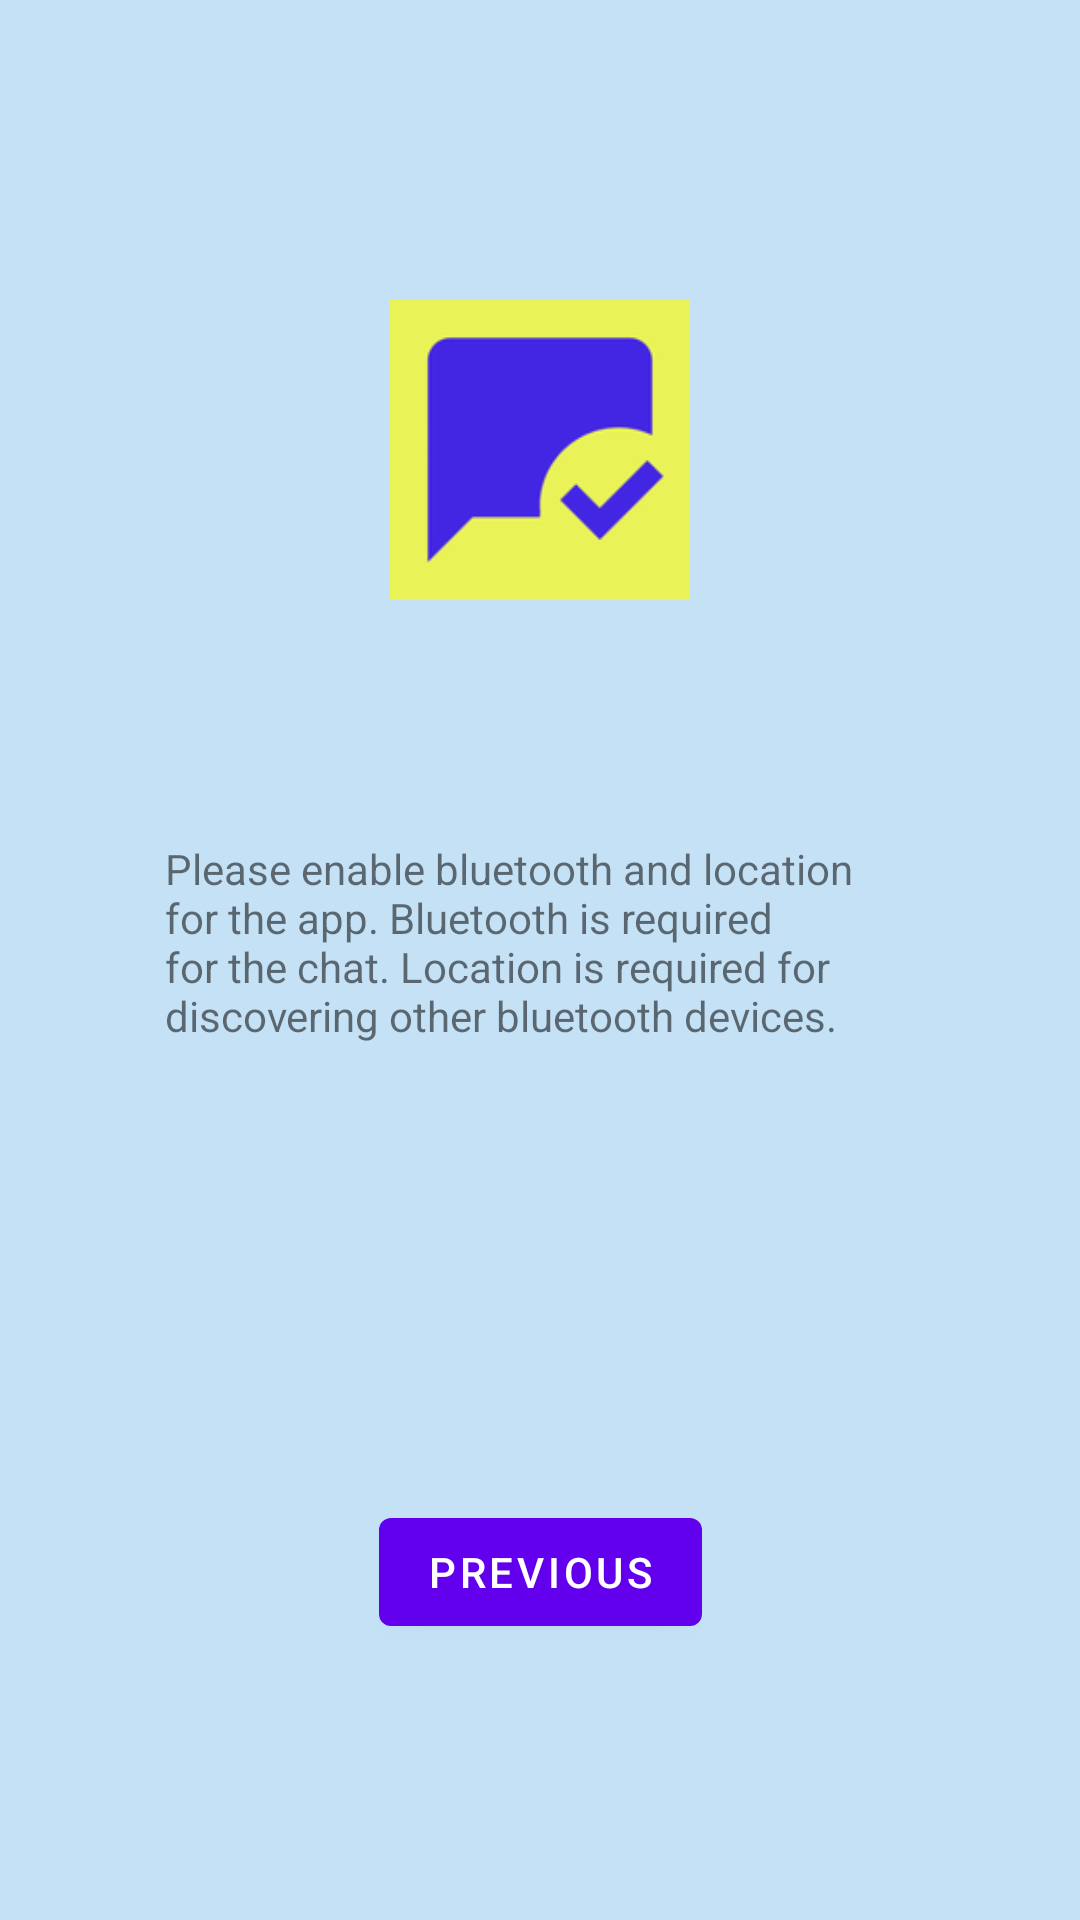

Named icons in this screenshot (1080px x 1920px) and their centers, (x,y):
blechat: (540,450)
